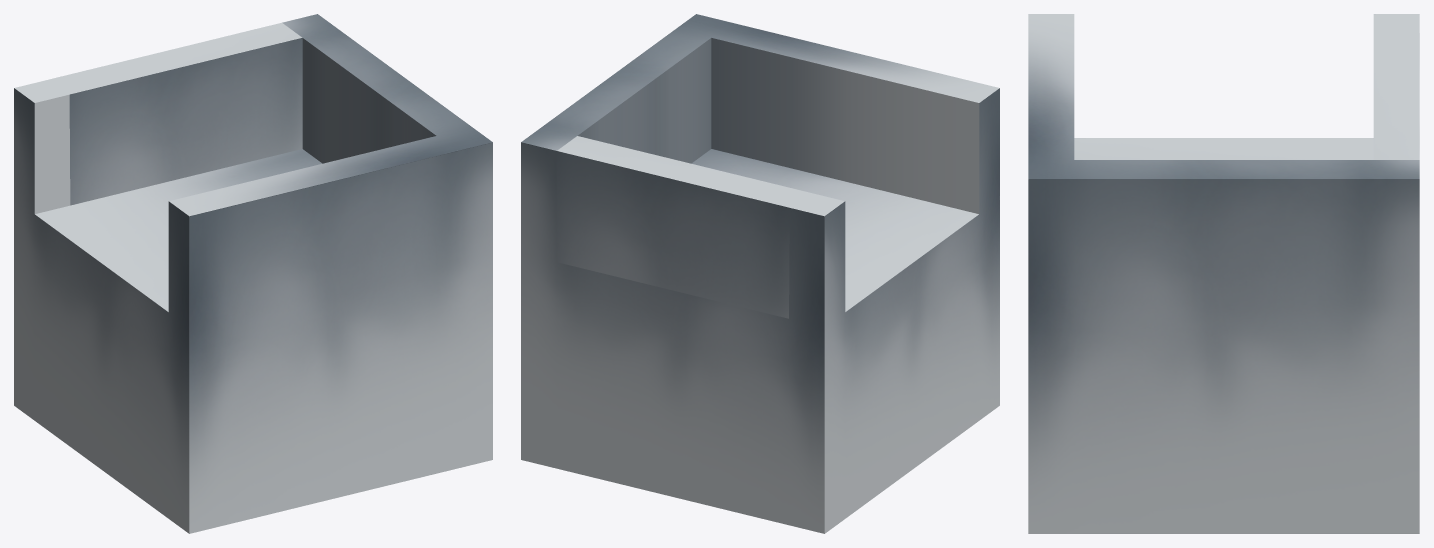
File: Wall Variant A(Cap).fbx
The picture shows the model from 3 angles, left to right: view 1: azimuth 30°, elevation 25°; view 2: azimuth 150°, elevation 25°; view 3: azimuth 270°, elevation 25°; orthographic projection. The views are drawn at different scales.
Parts seen in each view (by area): view 1: Plane022; view 2: Plane022; view 3: Plane022.
Part boxes in pixels (x1,y1,x2,y2): Plane022: (14,14,492,533); Plane022: (521,14,999,533); Plane022: (1028,14,1419,533).
Size of the model in its own units: 39.37 by 39.37 by 39.37.
1 material, 1 textured.
